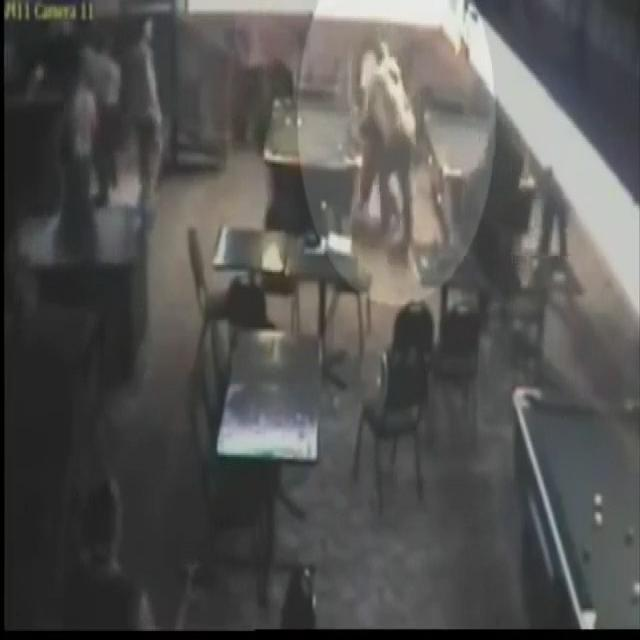fight: (354, 33, 420, 269)
